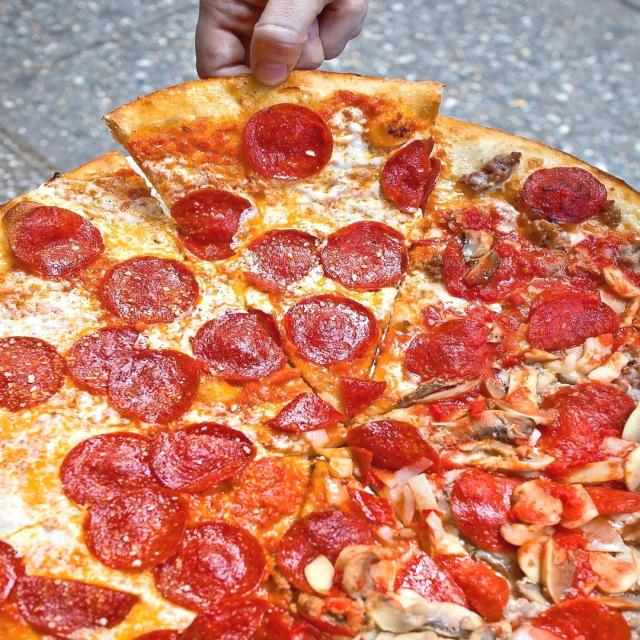mushrooms: (491, 342, 630, 405), (525, 524, 640, 598), (453, 404, 553, 473), (362, 588, 472, 640), (599, 257, 640, 316), (404, 374, 474, 404), (461, 228, 498, 283)
pepperoni: (15, 570, 158, 640), (160, 522, 270, 602), (59, 426, 164, 502), (77, 489, 183, 564), (240, 102, 335, 179), (192, 305, 286, 382), (281, 508, 367, 592), (281, 293, 381, 364), (316, 217, 411, 290), (104, 253, 197, 327), (549, 387, 628, 472), (12, 206, 103, 278), (159, 423, 259, 488), (244, 226, 333, 298), (454, 469, 534, 549), (406, 315, 496, 385), (109, 348, 196, 419), (66, 320, 146, 394), (0, 329, 67, 416), (166, 188, 250, 256), (439, 546, 514, 620), (528, 278, 612, 344), (520, 166, 606, 226), (352, 419, 443, 474), (378, 135, 438, 212), (188, 599, 292, 640), (539, 591, 626, 640), (400, 550, 462, 598), (276, 392, 350, 430), (332, 373, 389, 415), (587, 480, 640, 520), (447, 229, 478, 234)
pizza: (0, 67, 640, 640)
